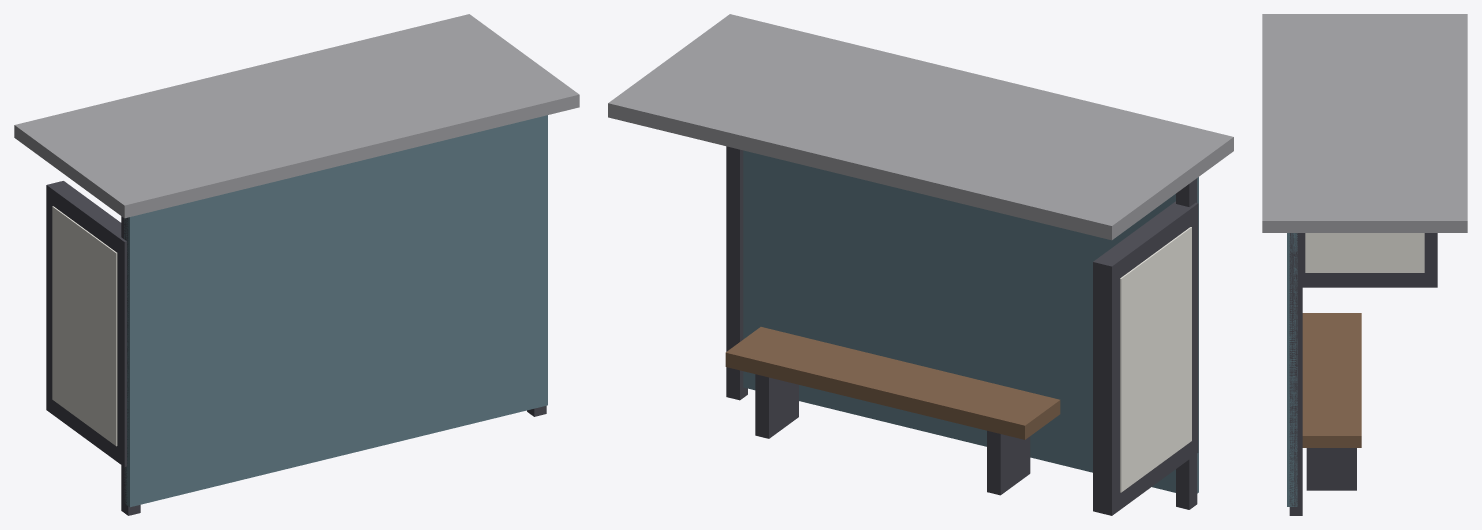
The model's file is SM_Parada_Camion.fbx.
3 views of the same model, side by side, from view 1: azimuth 30°, elevation 25°; view 2: azimuth 150°, elevation 25°; view 3: azimuth 270°, elevation 25° (orthographic). The views are drawn at different scales.
Parts seen in each view (by area): view 1: SM_Parada_Camion; view 2: SM_Parada_Camion; view 3: SM_Parada_Camion.
Boxes of the visible parts, x1=… form: SM_Parada_Camion: x1=14, y1=14, x2=579, y2=515; SM_Parada_Camion: x1=608, y1=14, x2=1233, y2=515; SM_Parada_Camion: x1=1262, y1=14, x2=1467, y2=515.
Size of the model in its own units: 3.7 by 2.53 by 1.55.
